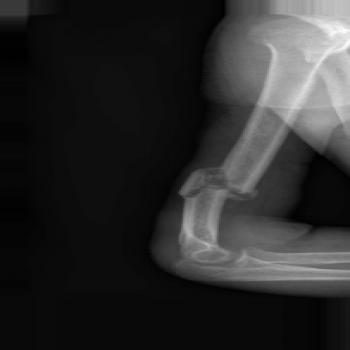Fracture: (172, 161, 270, 203)
